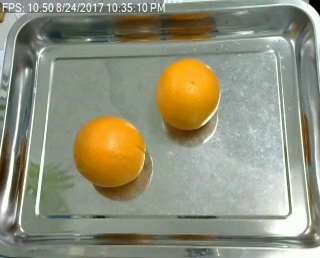Orange: (72, 115, 146, 187), (157, 57, 220, 130)
